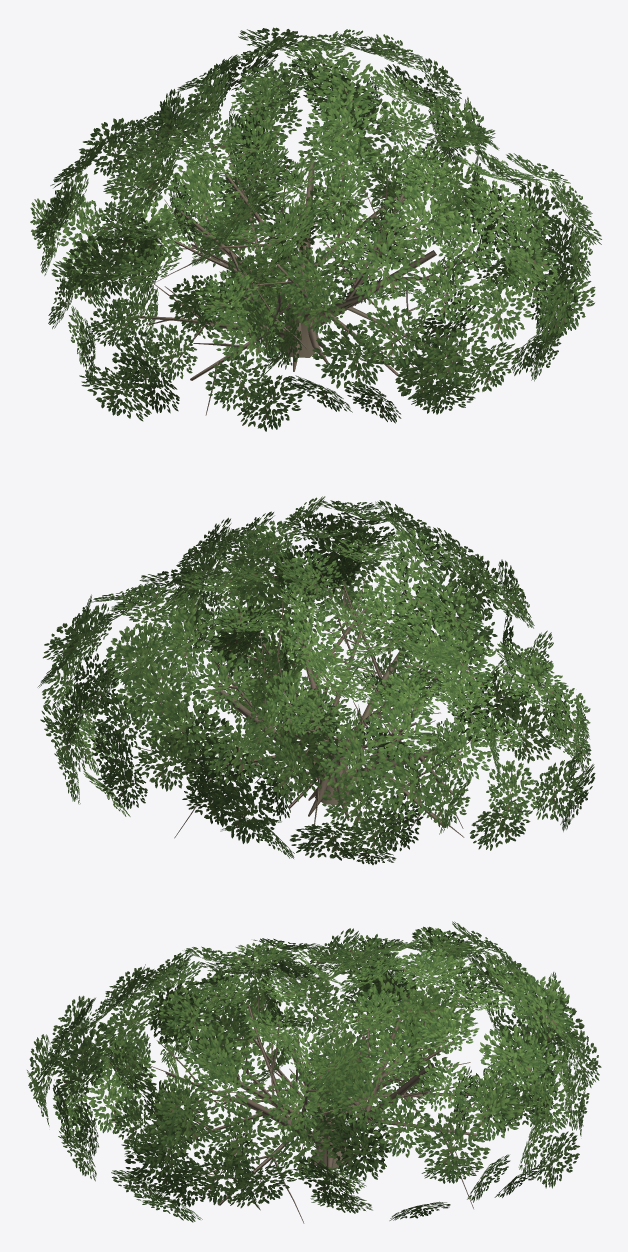
The model's file is eco_shrub_round_a_LOD0.glb.
The picture shows the model from 3 angles, top to bottom: view 1: azimuth 30°, elevation 25°; view 2: azimuth 150°, elevation 25°; view 3: azimuth 270°, elevation 25°; orthographic projection. The views are drawn at different scales.
Visible parts, largest first — view 1: eco_shrub_round_a_LOD0; view 2: eco_shrub_round_a_LOD0; view 3: eco_shrub_round_a_LOD0.
Boxes of the visible parts, x1,y1,x2,y2 form: eco_shrub_round_a_LOD0: (30, 27, 601, 431); eco_shrub_round_a_LOD0: (37, 496, 595, 864); eco_shrub_round_a_LOD0: (27, 921, 601, 1223).
Size of the model in its own units: 2.26 by 1.3 by 2.53.
2 materials, 1 textured.
